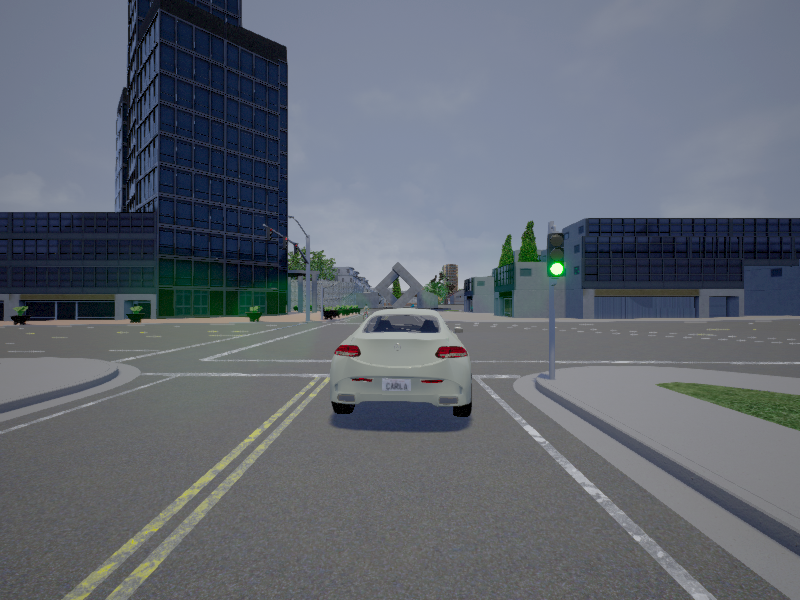Benign: (329, 310, 475, 422)
